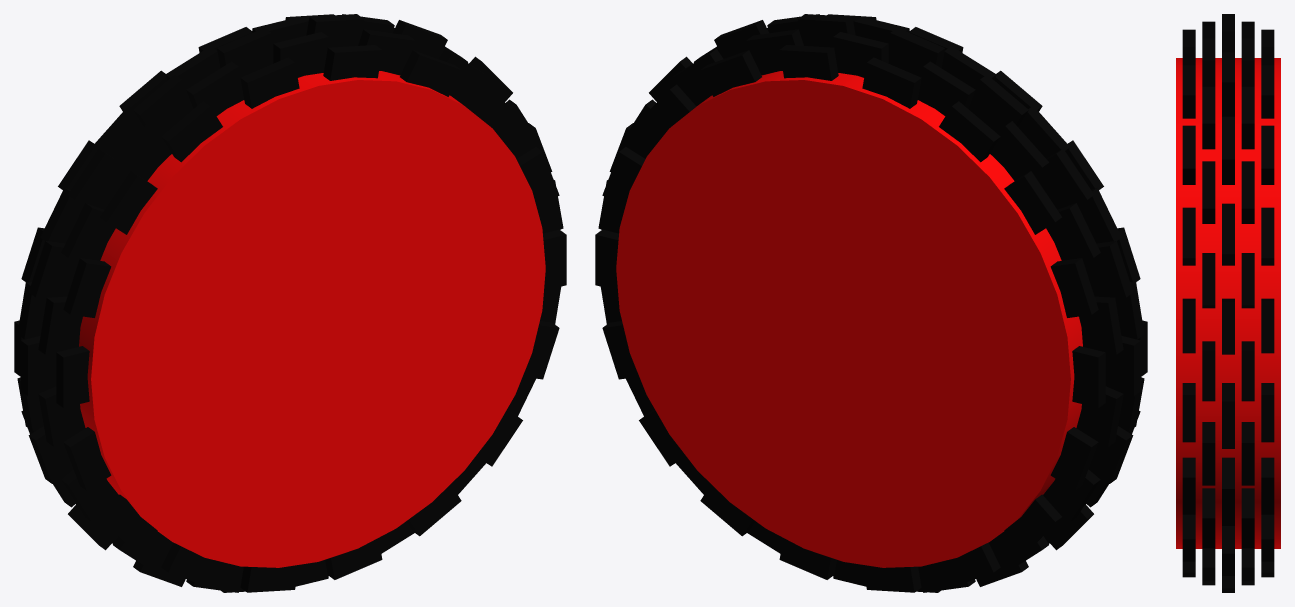
Rendered from tyre-pt25w.glb.
3 views of the same model, side by side, from view 1: azimuth 30°, elevation 25°; view 2: azimuth 150°, elevation 25°; view 3: azimuth 270°, elevation 25° (orthographic). The views are drawn at different scales.
Bounding box in the file's own units: 11 × 11.01 × 2.
